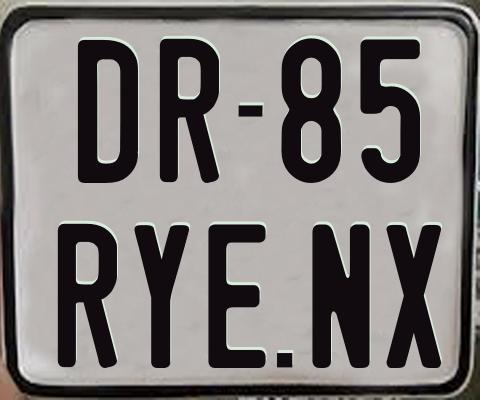5: (359, 37, 423, 186)
8: (280, 37, 344, 185)
D: (77, 40, 142, 185)
E: (205, 222, 268, 368)
N: (311, 221, 371, 367)
R: (57, 224, 122, 374), (158, 38, 222, 188)
X: (385, 224, 446, 368)
Y: (133, 225, 190, 372)
